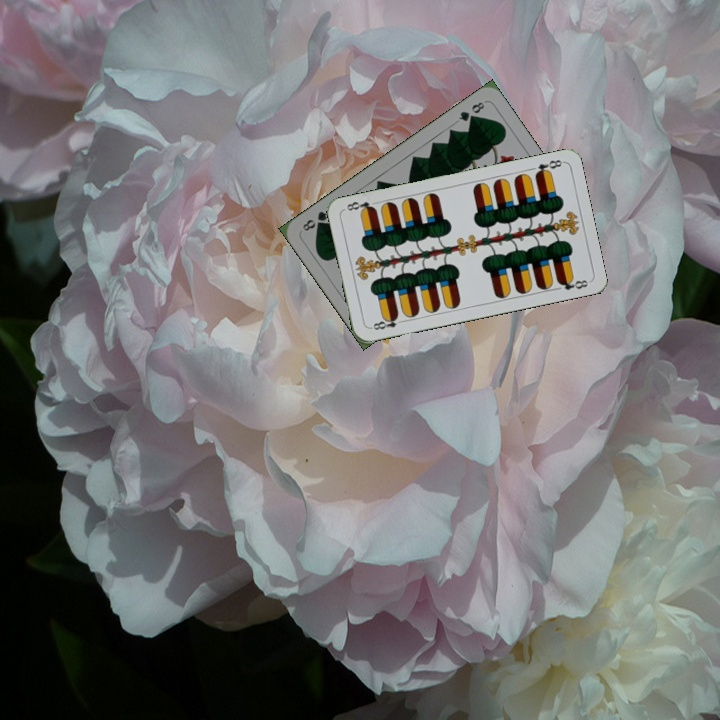E8: (366, 312, 407, 332), (531, 155, 565, 178)
G8: (454, 98, 487, 124)
